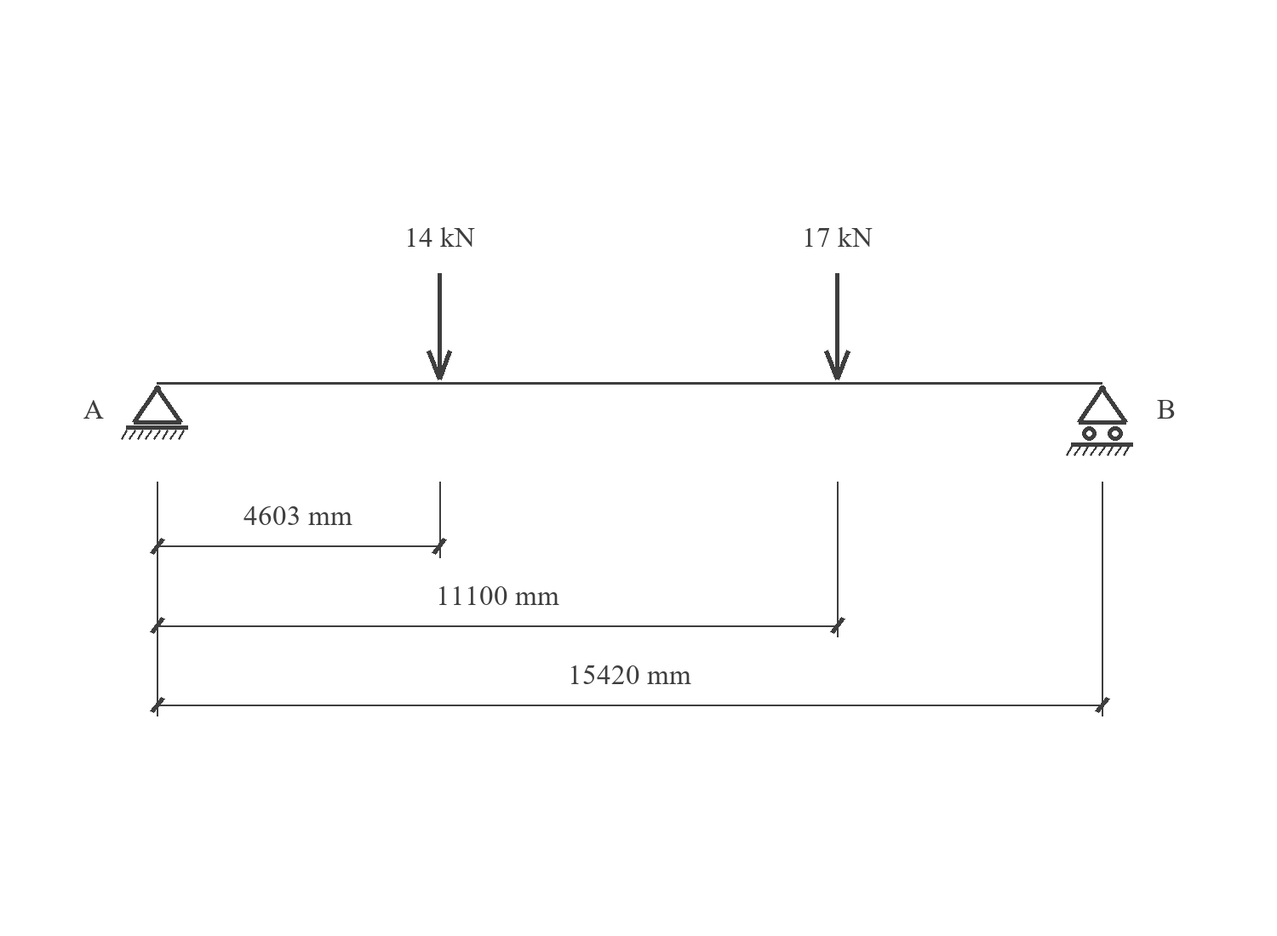pin_support: (121, 385, 188, 440)
point_load: (824, 273, 850, 380), (427, 273, 452, 380)
roller_support: (1066, 385, 1133, 456)
